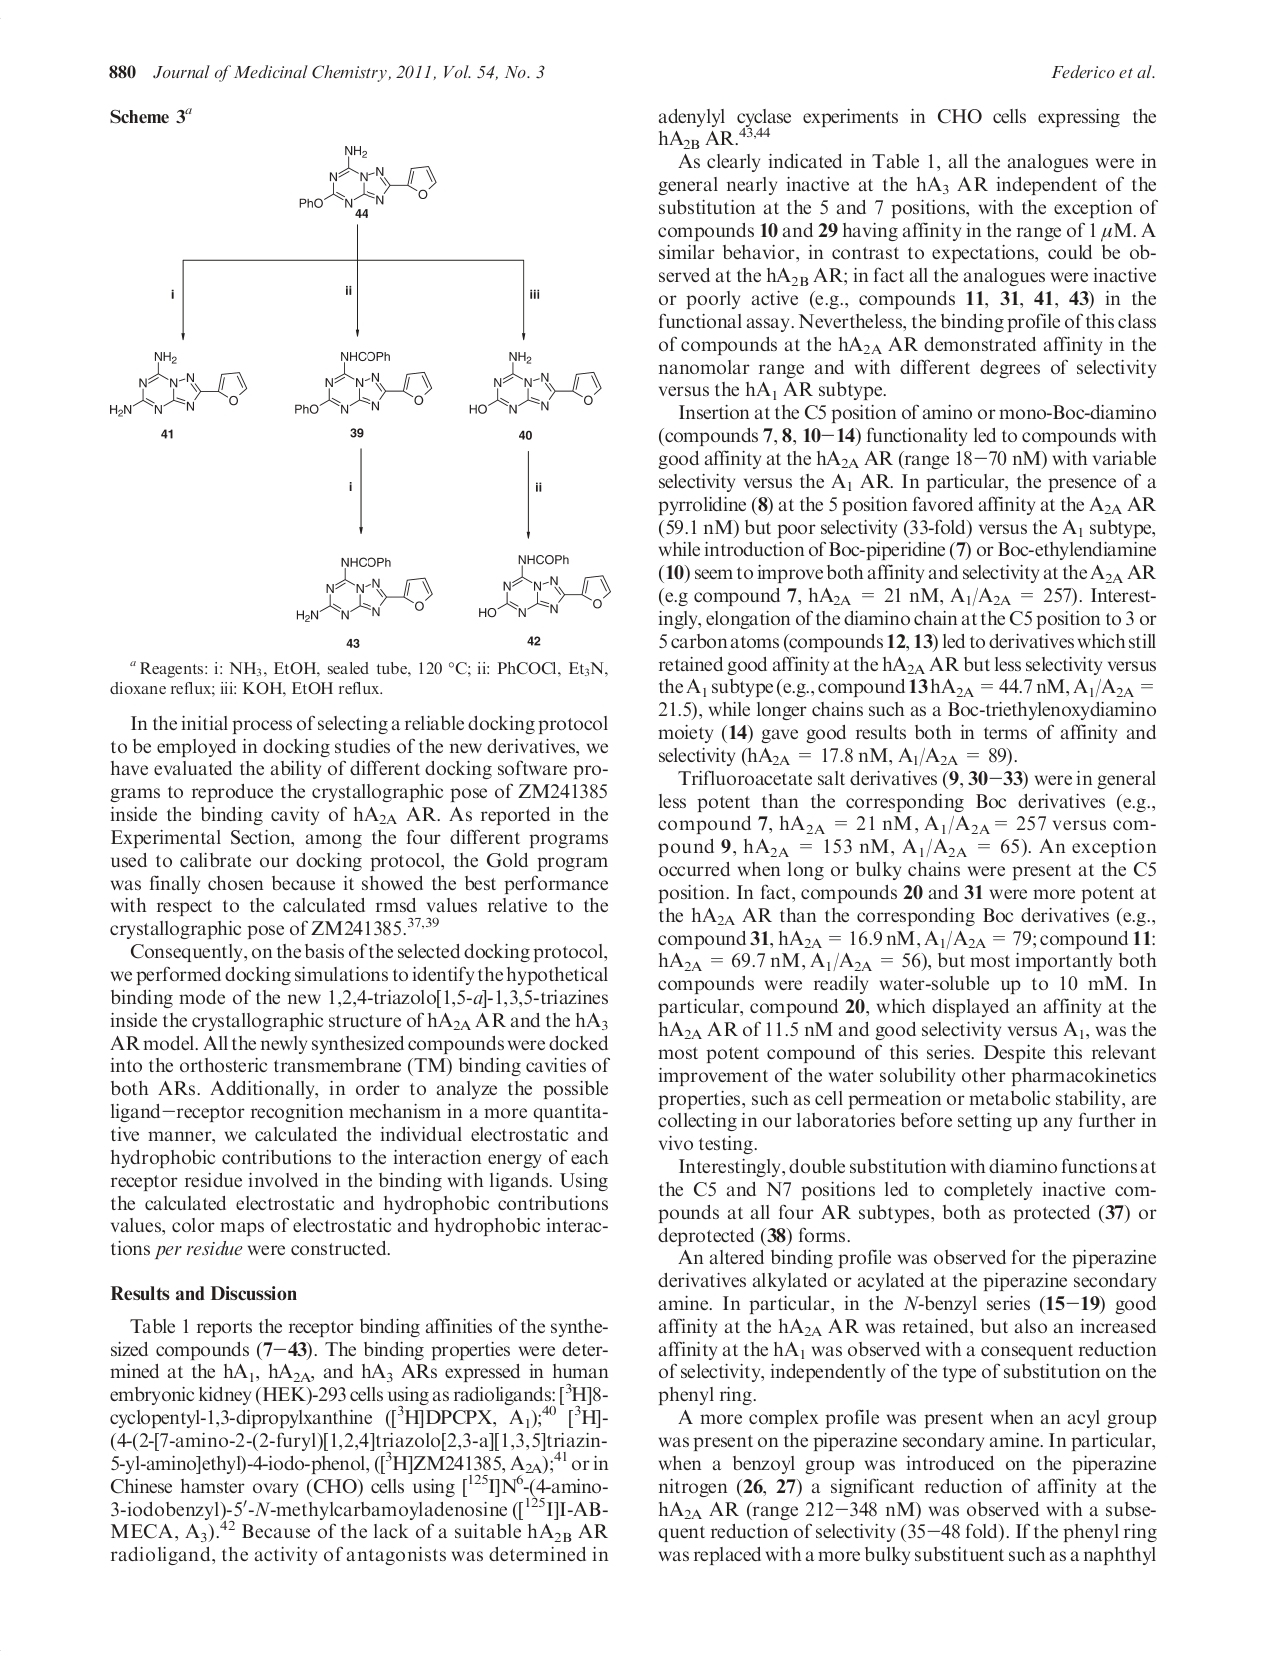exist_molecular: (289, 138, 442, 210), (291, 549, 435, 624), (289, 347, 436, 419), (106, 343, 249, 418), (473, 549, 614, 622), (465, 348, 606, 415)
